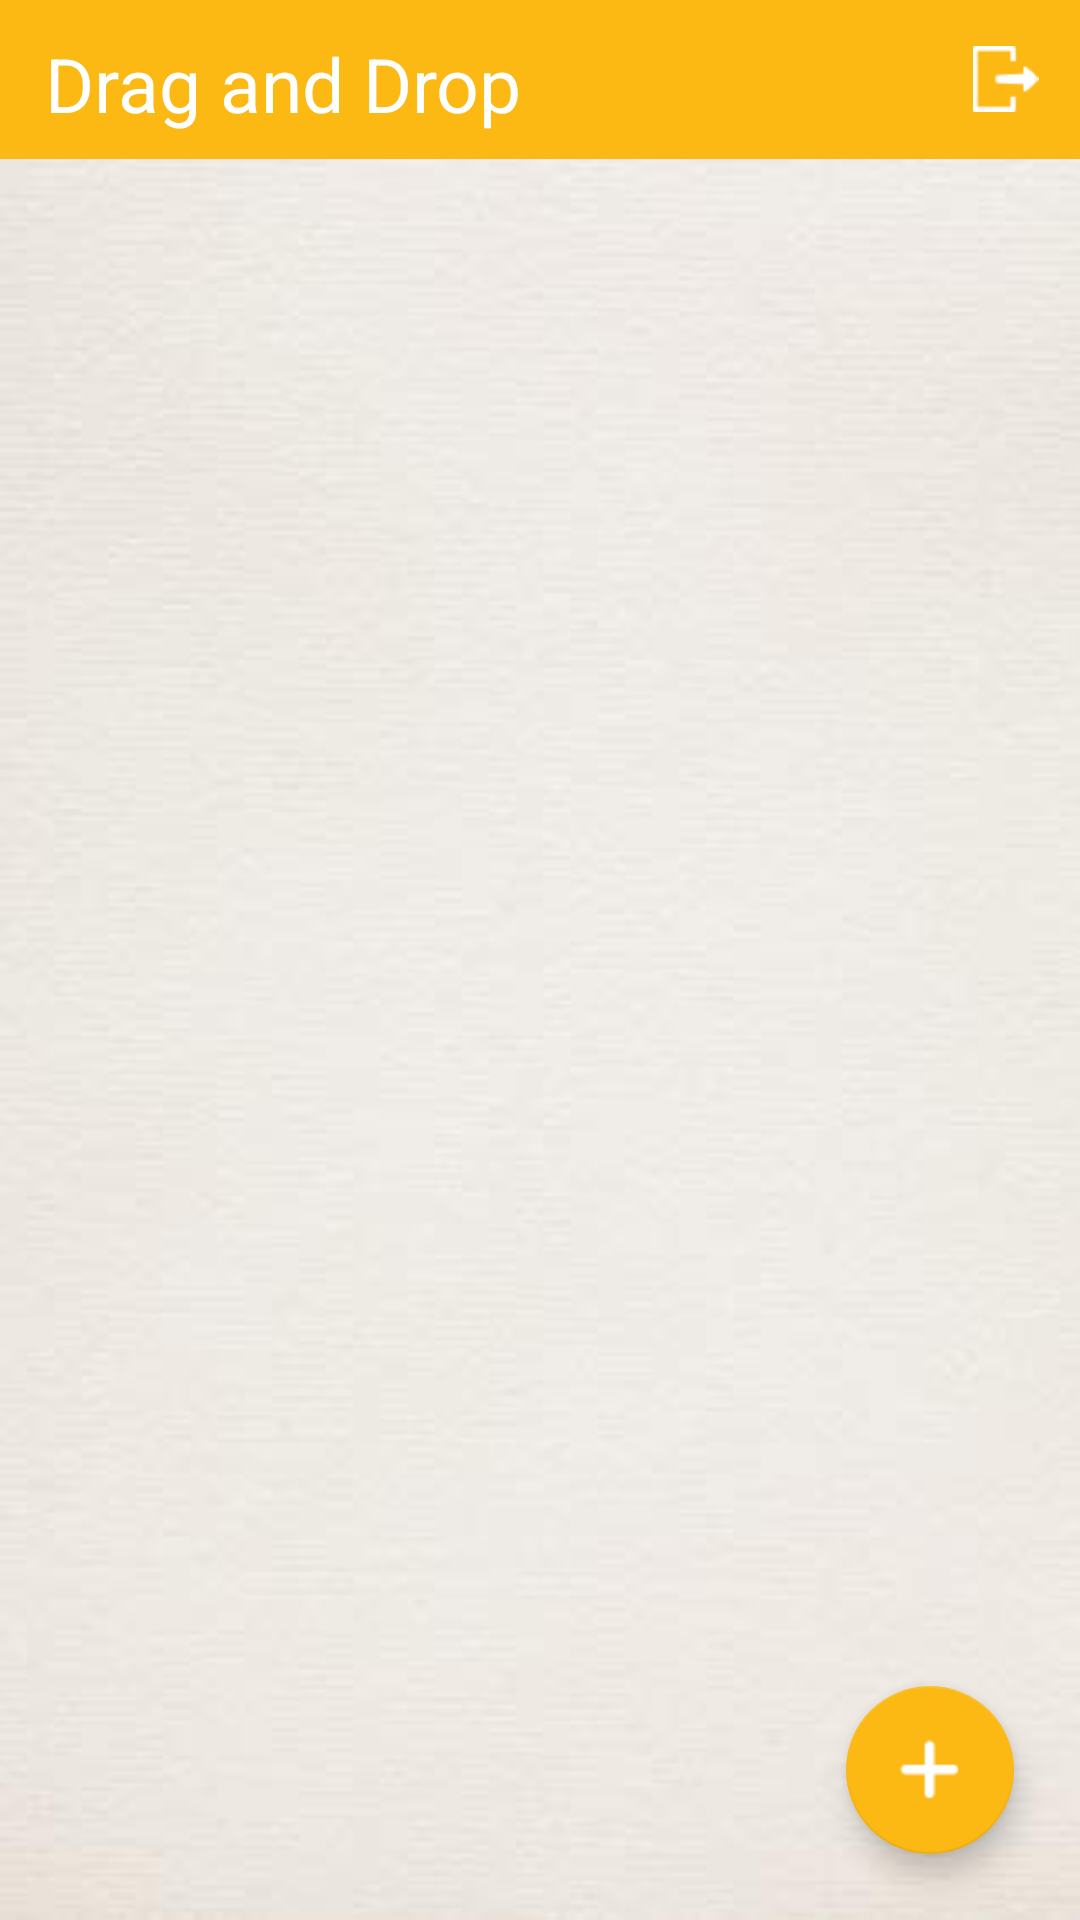

Screen size 1080x1920. Icon name, then its center in pixels as point (x, y):
add: point (930, 1770)
